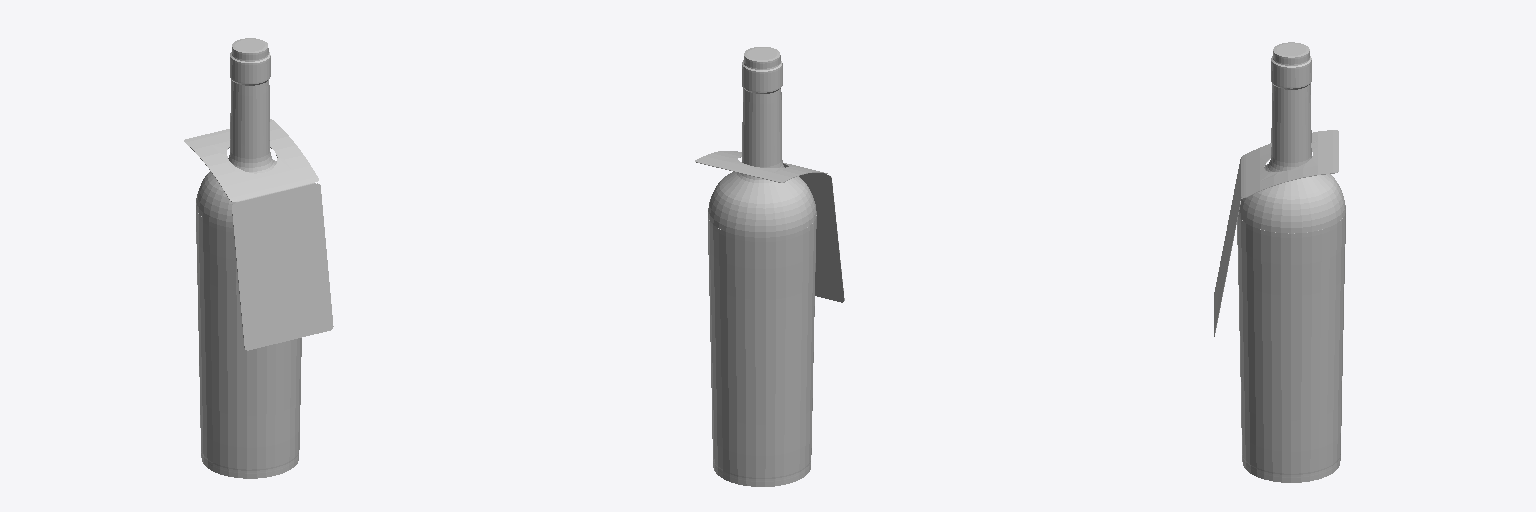
File: wine-bottle-004.obj
The picture shows the model from 3 angles: view 1: azimuth 30°, elevation 25°; view 2: azimuth 150°, elevation 25°; view 3: azimuth 270°, elevation 25°; orthographic projection.
Parts seen in each view (by area): view 1: Wine Bottle Gift Tag, bottle-label, bottle-plastic, bottle-body; view 2: bottle-label, bottle-body, Wine Bottle Gift Tag, bottle-plastic; view 3: bottle-label, bottle-body, Wine Bottle Gift Tag, bottle-plastic.
Boxes of the visible parts, x1=… form: Wine Bottle Gift Tag: x1=184, y1=119, x2=333, y2=350; bottle-label: x1=196, y1=210, x2=301, y2=473; bottle-plastic: x1=230, y1=38, x2=270, y2=145; bottle-body: x1=196, y1=139, x2=298, y2=478; bottle-label: x1=708, y1=215, x2=816, y2=481; bottle-body: x1=708, y1=148, x2=816, y2=486; Wine Bottle Gift Tag: x1=695, y1=151, x2=844, y2=302; bottle-plastic: x1=742, y1=47, x2=782, y2=154; bottle-label: x1=1237, y1=213, x2=1345, y2=477; bottle-body: x1=1238, y1=145, x2=1345, y2=482; Wine Bottle Gift Tag: x1=1214, y1=130, x2=1338, y2=336; bottle-plastic: x1=1271, y1=42, x2=1311, y2=150.
Bounding box in the file's own units: 0.0811 × 0.3383 × 0.0982.